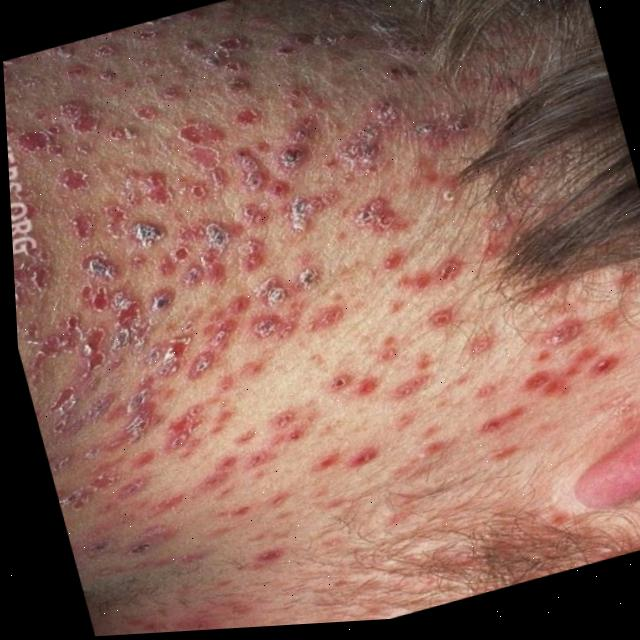Rosacea: (2, 17, 549, 571)
